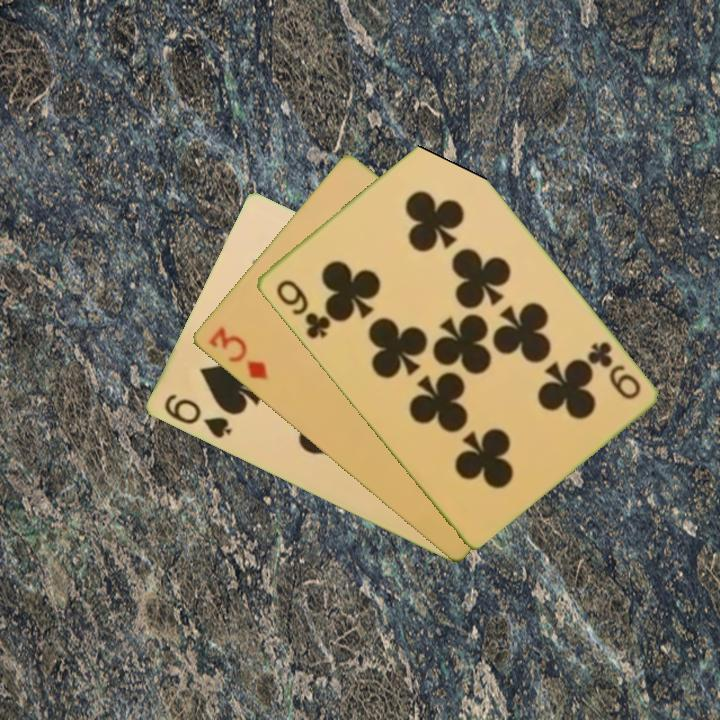3d: (204, 322, 270, 383)
6s: (160, 390, 234, 442)
9c: (272, 276, 333, 342), (583, 337, 643, 403)
